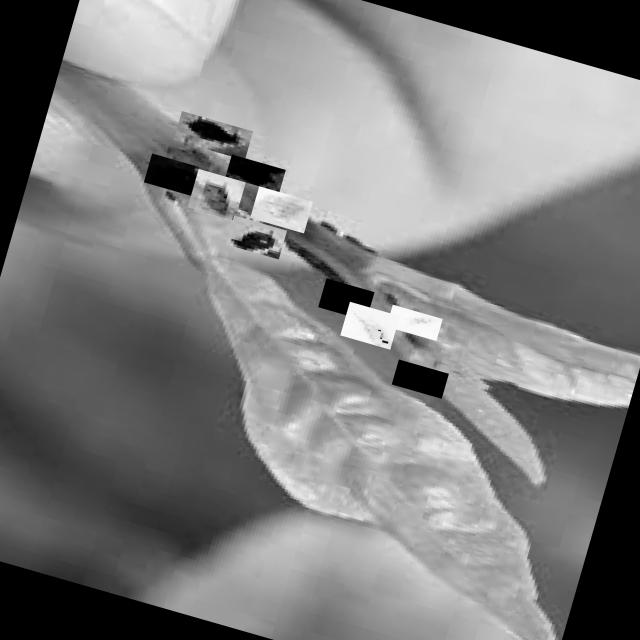aphid: (174, 110, 252, 159), (188, 168, 245, 220), (250, 185, 312, 232), (144, 152, 208, 197), (340, 301, 400, 348), (224, 214, 286, 258), (318, 277, 374, 320), (226, 153, 286, 191), (392, 358, 448, 398), (386, 304, 442, 339)
